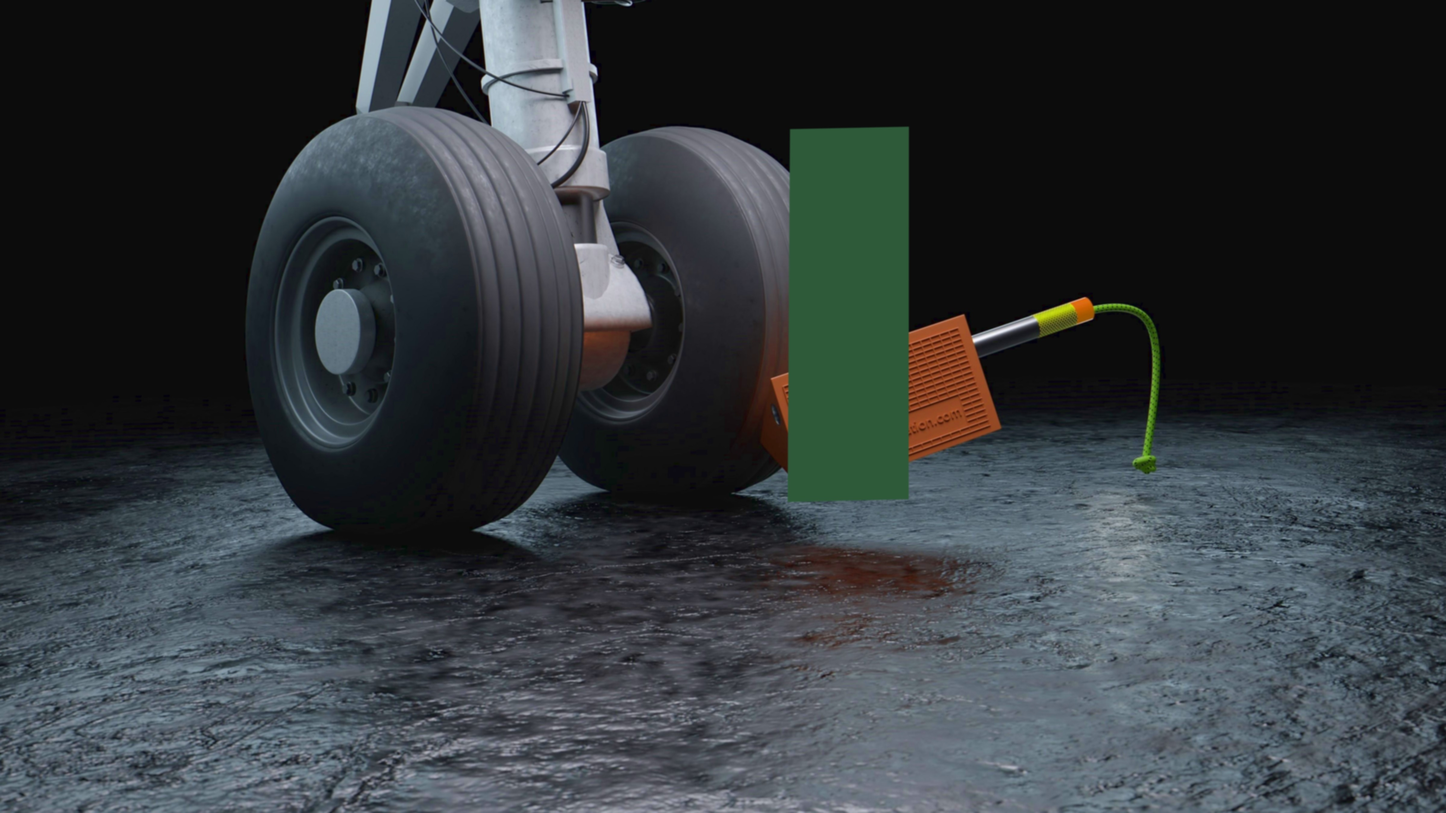chock: (752, 309, 1005, 503)
wheel: (232, 99, 587, 546), (544, 117, 841, 505)
